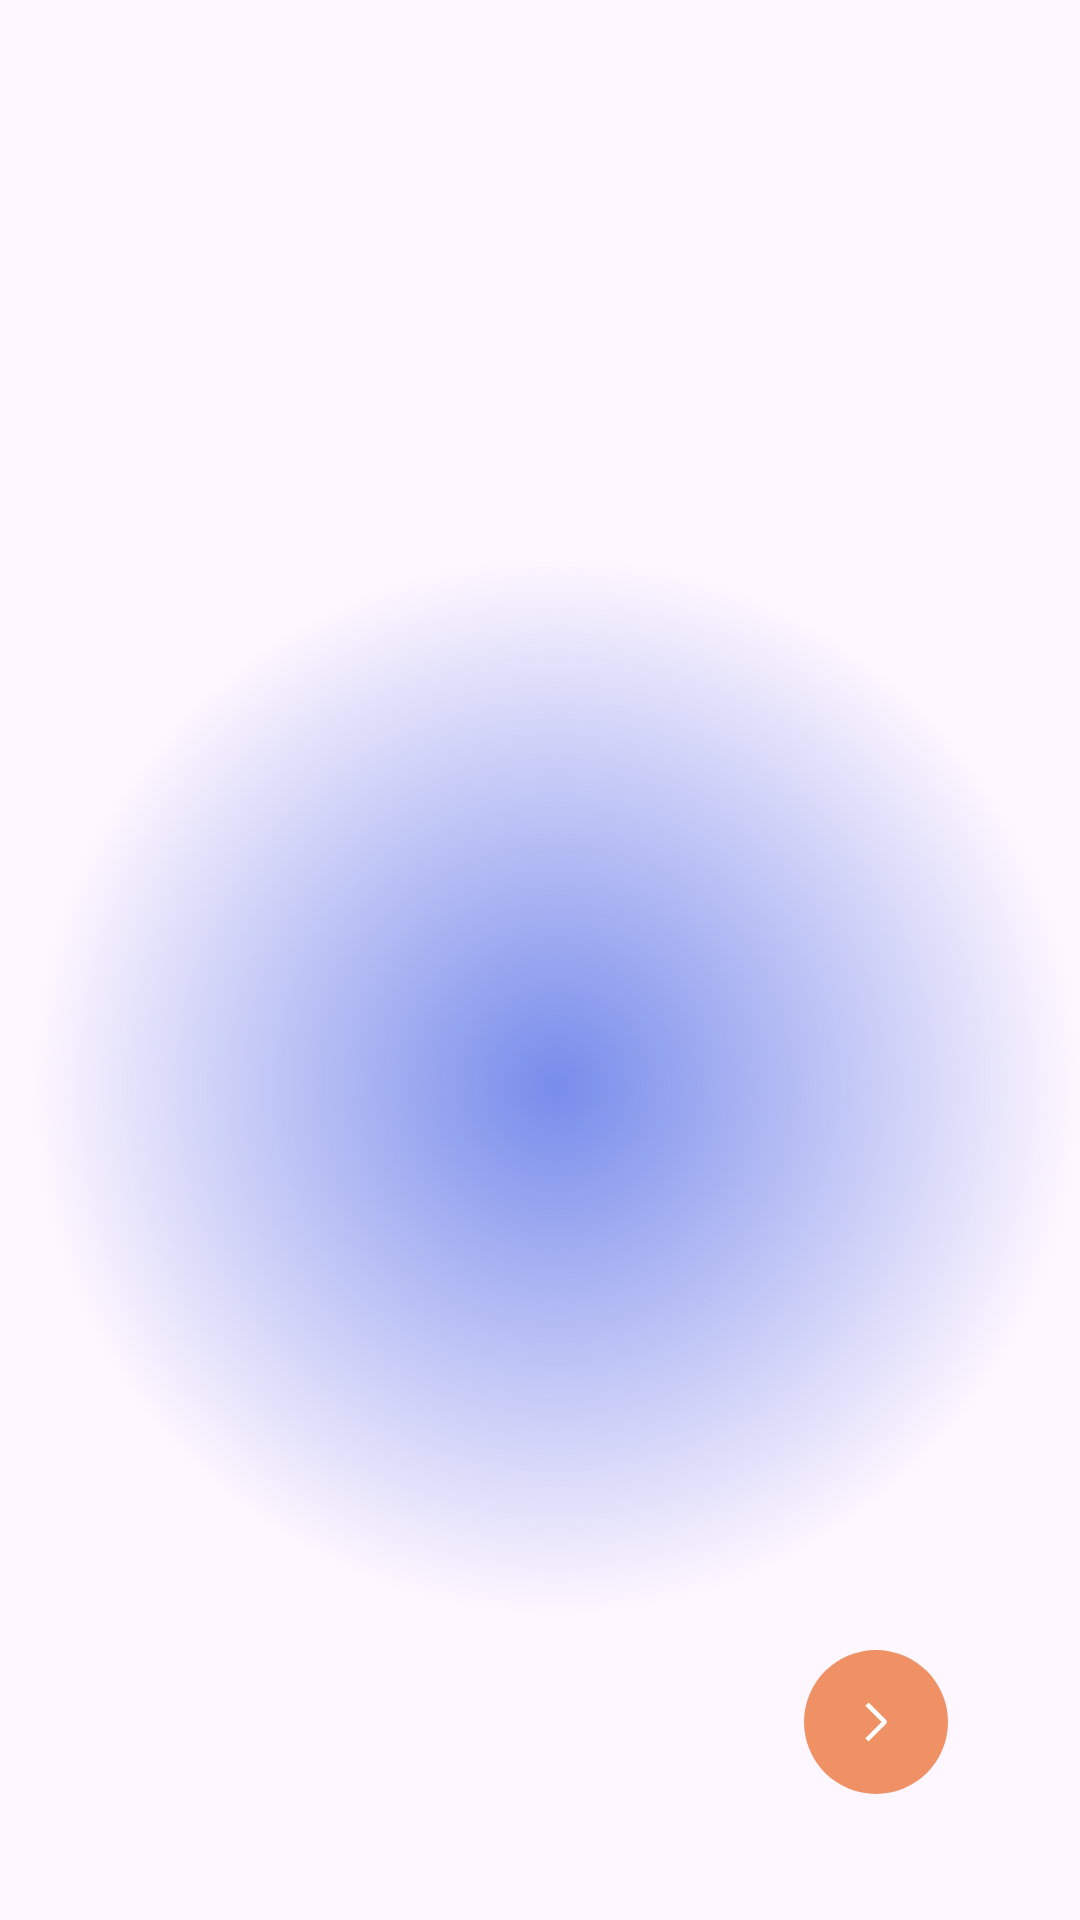

Icons on this 1080px×1920px Android screen, each with the point to tap as [x,y]:
right arrow: [876,1722]
